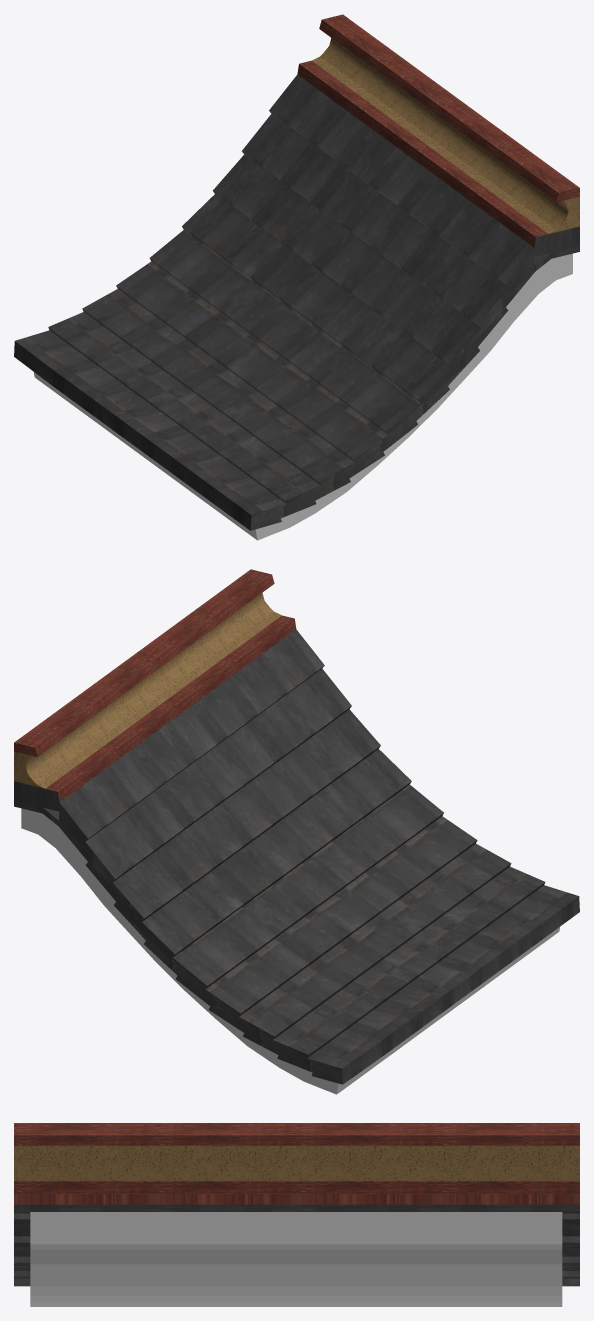
Rendered from corridorRoof.fbx.
3 renders of one model, top to bottom at view 1: azimuth 30°, elevation 25°; view 2: azimuth 150°, elevation 25°; view 3: azimuth 270°, elevation 25°, orthographic. The views are drawn at different scales.
Parts seen in each view (by area): view 1: polySurface70, polySurface17, pCube3; view 2: polySurface70, polySurface17, pCube3; view 3: pCube3, polySurface17, polySurface115, polySurface70.
Boxes of the visible parts, box(x1,y1,x2,y2) form: polySurface70: box(14, 74, 535, 530); polySurface17: box(297, 14, 579, 256); pCube3: box(34, 253, 572, 540); polySurface70: box(58, 629, 579, 1084); polySurface17: box(14, 569, 296, 811); pCube3: box(21, 808, 559, 1094); pCube3: box(30, 1212, 562, 1306); polySurface17: box(14, 1123, 579, 1204); polySurface115: box(14, 1204, 579, 1211); polySurface70: box(14, 1212, 579, 1286).
Size of the model in its own units: 2.34 by 1.9 by 2.91.
